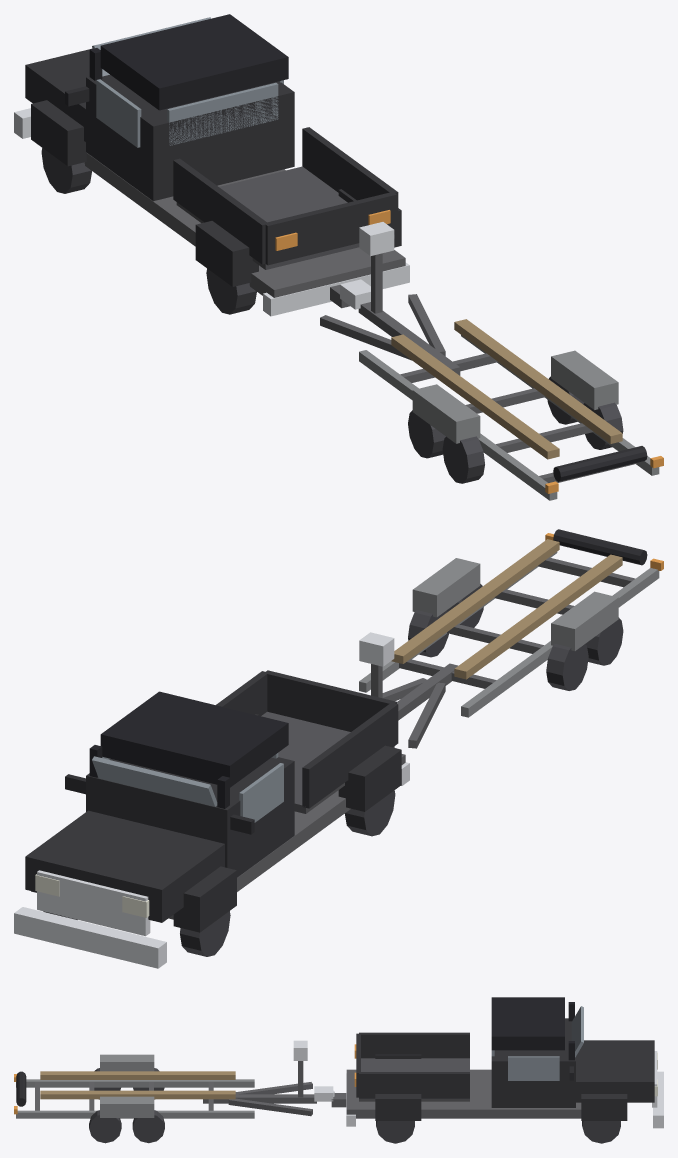
File: black-truck-empty-trailer.glb
3 views of the same model, one above another, from view 1: azimuth 30°, elevation 25°; view 2: azimuth 150°, elevation 25°; view 3: azimuth 270°, elevation 25° (orthographic). The views are drawn at different scales.
Visible parts, largest first — view 1: BTT_Cab, BTT_Roof, BTT_Chassis, BTT_Tailgate, BTT_BedFloor, BTT_BedL, BTT_GlassRear, BTT_BunkR, BTT_BunkL, BTT_BedR, BTT_Hood, BTT_FenderRL (+20 smaller); view 2: BTT_Hood, BTT_Roof, BTT_Cab, BTT_Tailgate, BTT_BumperF, BTT_BedL, BTT_Grill, BTT_BunkL, BTT_BunkR, BTT_BedFloor, BTT_FenderFL, BTT_FenderRL (+20 smaller); view 3: BTT_Hood, BTT_Roof, BTT_Chassis, BTT_Cab, BTT_BedR, BTT_BedL, BTT_BunkR, BTT_RailL, BTT_BunkL, BTT_BedFloor, BTT_RailR, BTT_GlassR (+17 smaller).
Part boxes in pixels (bbox=[...]): BTT_Cab: bbox=[86, 75, 294, 201]; BTT_Roof: bbox=[100, 14, 288, 110]; BTT_Chassis: bbox=[84, 153, 405, 297]; BTT_Tailgate: bbox=[265, 192, 396, 265]; BTT_BedFloor: bbox=[176, 166, 394, 269]; BTT_BedL: bbox=[173, 158, 268, 264]; BTT_GlassRear: bbox=[167, 82, 278, 145]; BTT_BunkR: bbox=[454, 319, 622, 443]; BTT_BunkL: bbox=[391, 334, 559, 459]; BTT_BedR: bbox=[302, 127, 398, 231]; BTT_Hood: bbox=[25, 48, 92, 141]; BTT_FenderRL: bbox=[195, 221, 258, 286]; BTT_Hood: bbox=[25, 810, 224, 922]; BTT_Roof: bbox=[100, 691, 288, 787]; BTT_Cab: bbox=[86, 757, 294, 877]; BTT_Tailgate: bbox=[266, 670, 396, 731]; BTT_BumperF: bbox=[14, 907, 166, 968]; BTT_BedL: bbox=[302, 702, 398, 808]; BTT_Grill: bbox=[37, 870, 150, 936]; BTT_BunkL: bbox=[454, 554, 622, 679]; BTT_BunkR: bbox=[391, 539, 559, 663]; BTT_BedFloor: bbox=[261, 711, 394, 813]; BTT_FenderFL: bbox=[173, 866, 236, 932]; BTT_FenderRL: bbox=[338, 745, 401, 811]; BTT_Hood: bbox=[576, 1040, 654, 1102]; BTT_Roof: bbox=[491, 997, 564, 1050]; BTT_Chassis: bbox=[346, 1069, 581, 1118]; BTT_Cab: bbox=[491, 1018, 575, 1107]; BTT_BedR: bbox=[359, 1072, 469, 1098]; BTT_BedL: bbox=[359, 1032, 469, 1058]; BTT_BunkR: bbox=[40, 1090, 235, 1099]; BTT_RailL: bbox=[16, 1079, 254, 1087]; BTT_BunkL: bbox=[40, 1071, 235, 1079]; BTT_BedFloor: bbox=[359, 1058, 469, 1101]; BTT_RailR: bbox=[16, 1110, 254, 1118]; BTT_GlassR: bbox=[508, 1056, 559, 1080].
Bounding box in the file's own units: 2.48 × 2.09 × 11.98.
